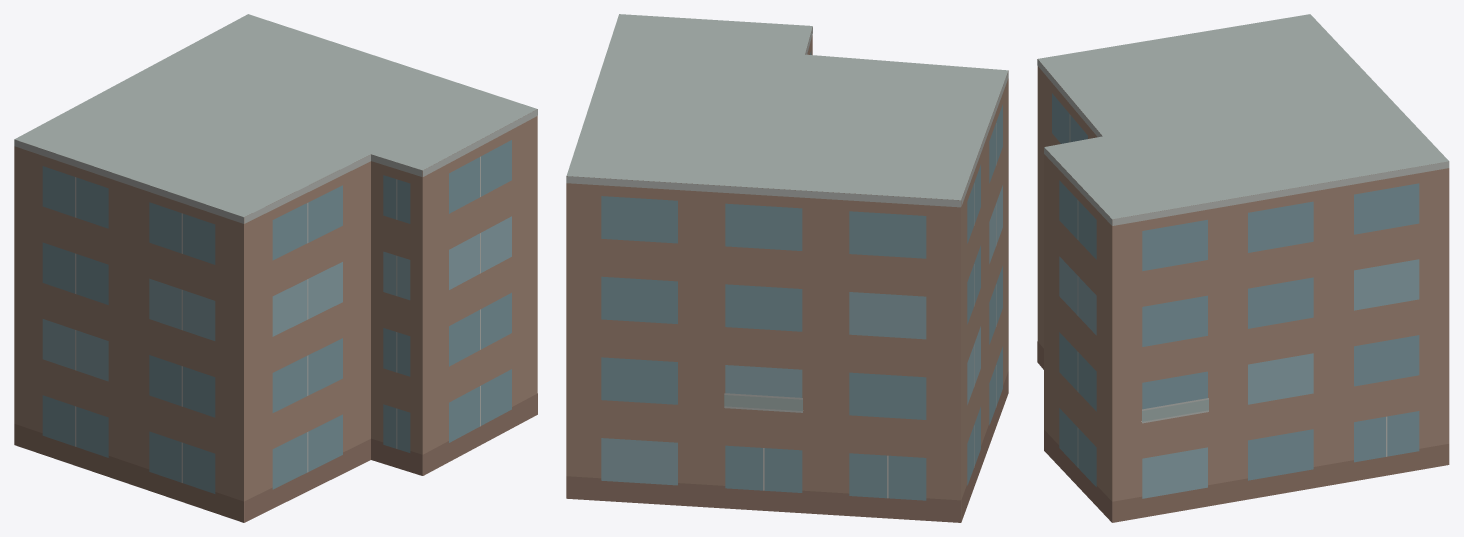
Rendered from survey-upis-32851540.glb.
The picture shows the model from 3 angles, left to right: view 1: azimuth 30°, elevation 25°; view 2: azimuth 150°, elevation 25°; view 3: azimuth 270°, elevation 25°; orthographic projection. The views are drawn at different scales.
Parts seen in each view (by area): view 1: survey-upis-32851540.tmp; view 2: survey-upis-32851540.tmp; view 3: survey-upis-32851540.tmp.
Boxes of the visible parts, x1,y1,x2,y2 form: survey-upis-32851540.tmp: [14, 14, 537, 522]; survey-upis-32851540.tmp: [566, 14, 1008, 522]; survey-upis-32851540.tmp: [1037, 14, 1449, 522].
Size of the model in its own units: 15.97 by 11 by 13.53.
